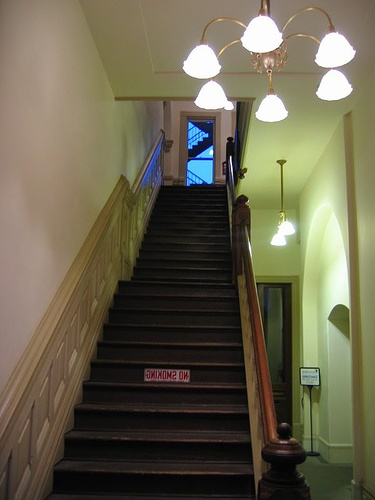stairs_up: (93, 175, 246, 495)
